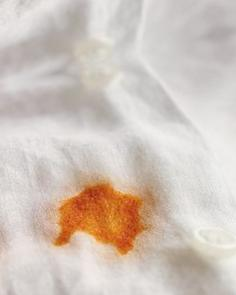stain: (51, 177, 156, 261)
